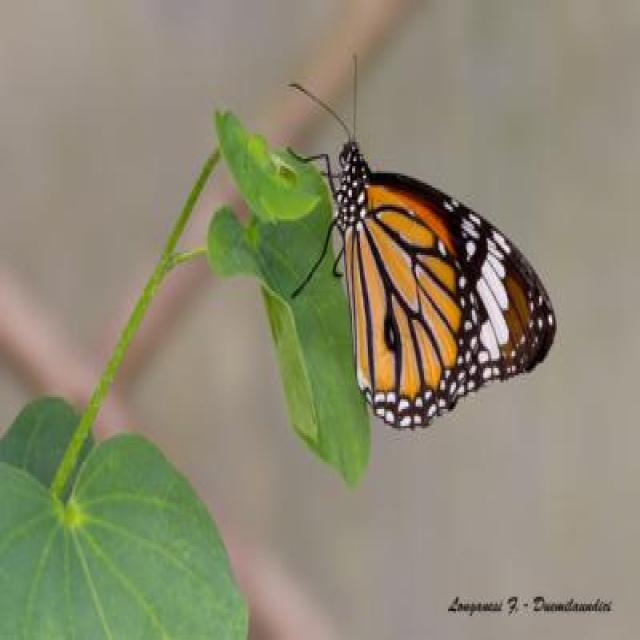antennae: (289, 56, 372, 140)
body: (335, 136, 381, 248)
insect: (284, 44, 559, 434)
legs: (289, 139, 348, 321)
wings: (346, 174, 554, 426)
